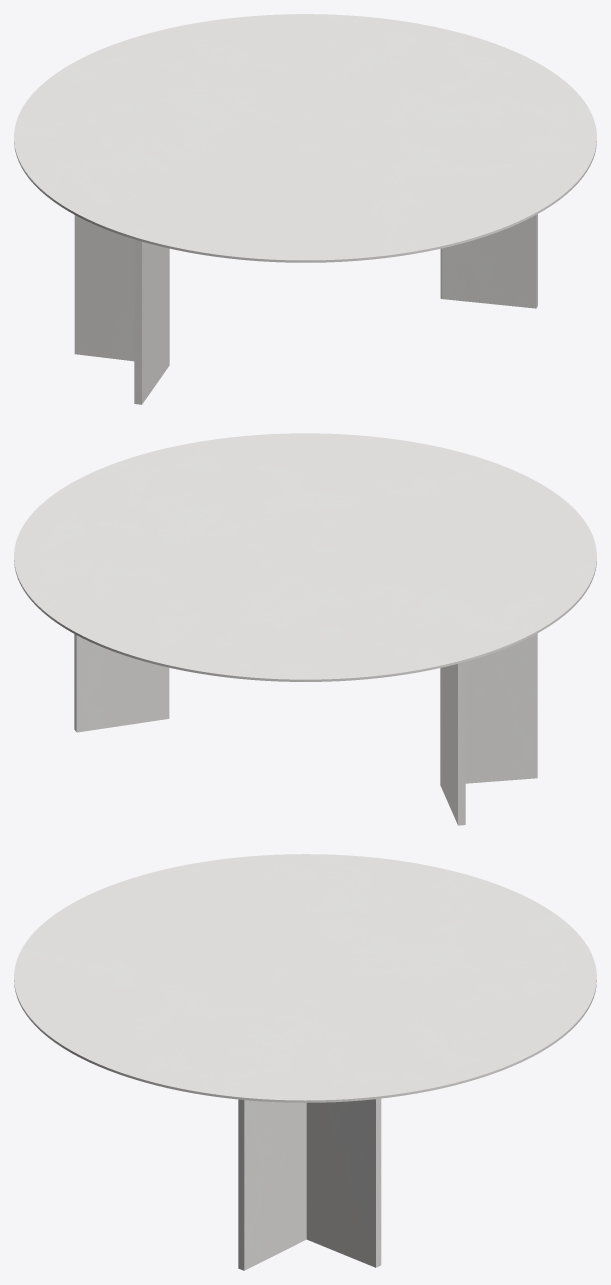
File: purewhite_round_facet_valleyv.glb
3 views of the same model, one above another, from view 1: azimuth 30°, elevation 25°; view 2: azimuth 150°, elevation 25°; view 3: azimuth 270°, elevation 25° (orthographic).
Visible parts, largest first — view 1: facet_round, valleyv; view 2: facet_round, valleyv; view 3: facet_round, valleyv.
Part boxes in pixels (box(x1,y1,x2,y2)): facet_round: box(14, 14, 596, 262); valleyv: box(74, 214, 537, 404); facet_round: box(14, 433, 596, 681); valleyv: box(74, 633, 537, 825); facet_round: box(14, 854, 596, 1102); valleyv: box(238, 1098, 381, 1270).
Bounding box in the file's own units: 6.75 × 2.49 × 6.75.
Materials: 1 (1 with a texture image).
